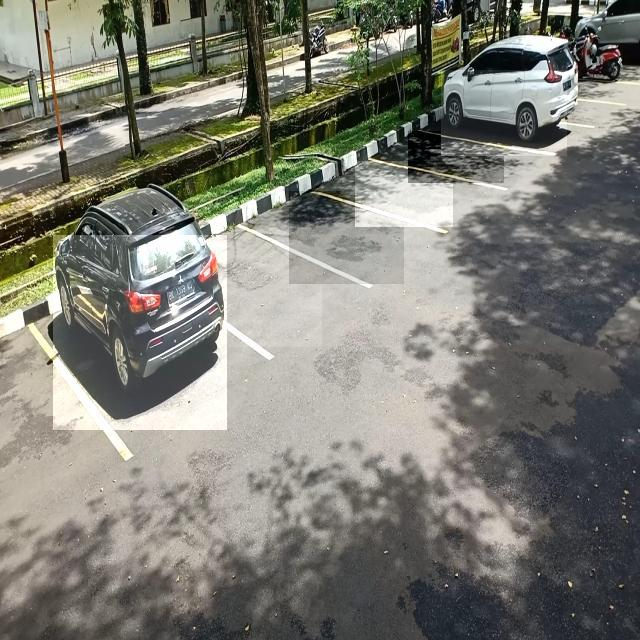empty: (223, 230, 322, 347), (289, 191, 404, 284), (355, 161, 453, 227), (408, 132, 504, 184)
occupied: (54, 235, 228, 430), (441, 70, 567, 156)
